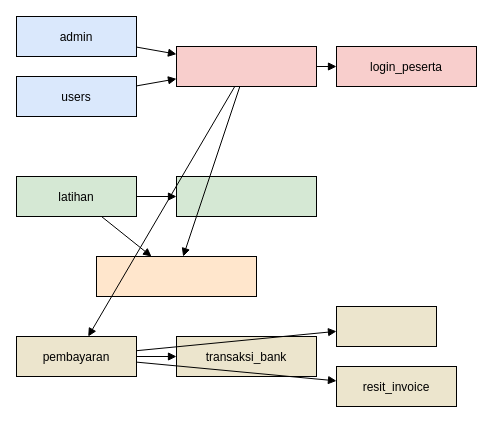
This 493x423 diagram has some shape labels left out. The shapes that lost their labels are listed below. From the top down, each one's centre as x and y in pixels, then its label:
the point at 246,66: peserta
the point at 246,196: jadual_latihan
the point at 176,276: keputusan_latihan
the point at 386,326: resit
